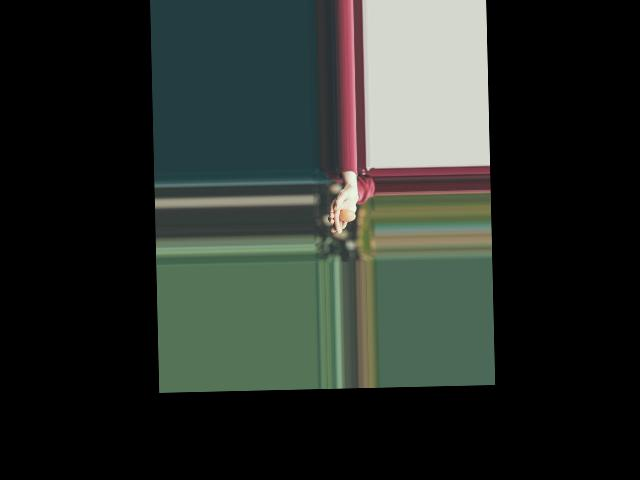egg: (339, 209, 355, 221)
